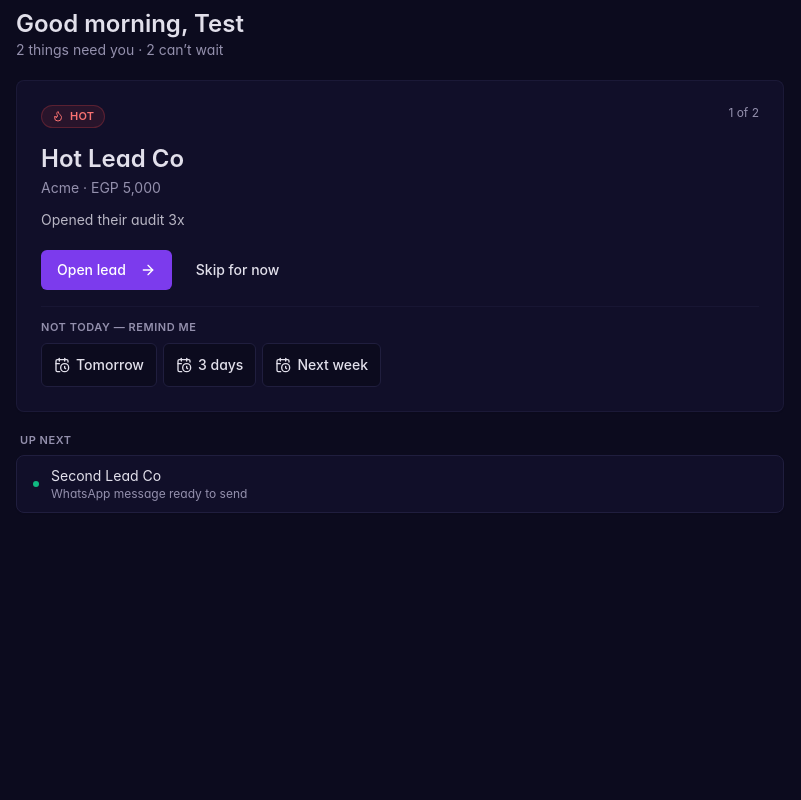
Today — a manual touch that isn't the top item › expands the queue row into the actionable card on click, instead of navigating away
Click the text "Second Lead Co" at (106, 475), box [51, 466, 161, 484]
(page scrolled)
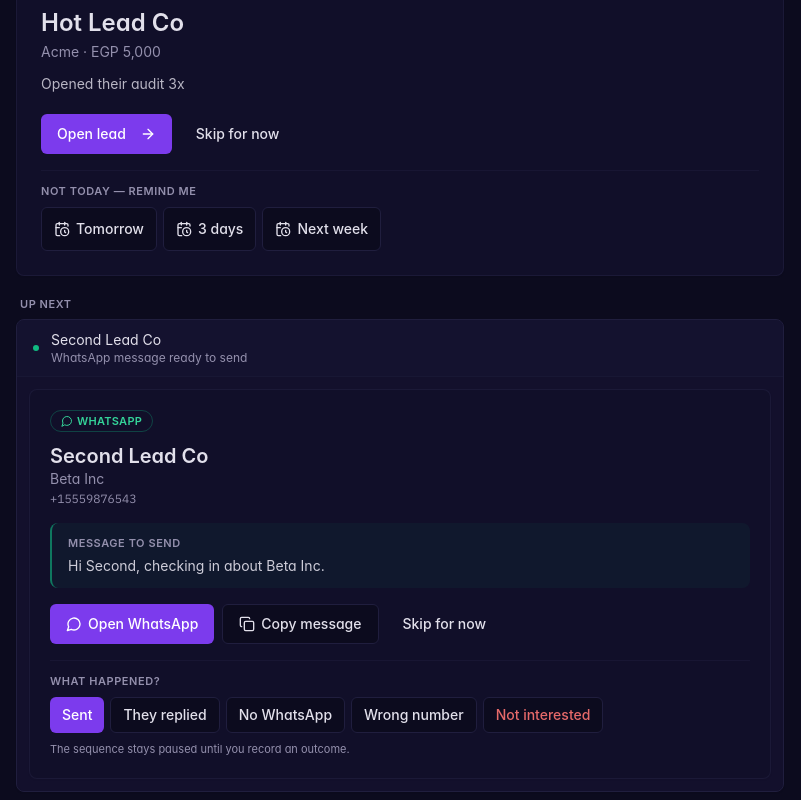
Check: the button "Sent" is shown, box [50, 697, 104, 733]
Check: the button "No WhatsApp" is shown, box [226, 697, 345, 733]
